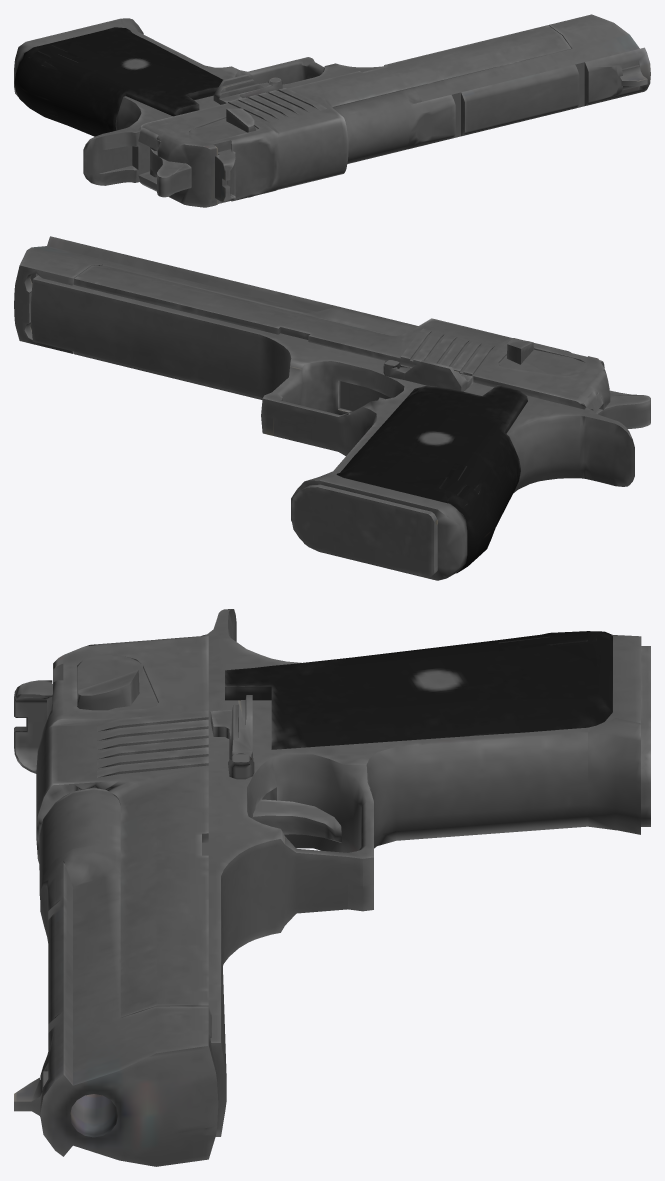
Rendered from Deagle.glb.
The picture shows the model from 3 angles, top to bottom: view 1: azimuth 30°, elevation 25°; view 2: azimuth 150°, elevation 25°; view 3: azimuth 270°, elevation 25°; orthographic projection. The views are drawn at different scales.
Parts seen in each view (by area): view 1: Deagle_upd, Deagle_upd_slider; view 2: Deagle_upd, Deagle_upd_slider, Deagle_upd_mag; view 3: Deagle_upd, Deagle_upd_slider, Deagle_upd_mag.
Boxes of the visible parts, bbox=[...] form: Deagle_upd: bbox=[14, 14, 650, 197]; Deagle_upd_slider: bbox=[138, 25, 571, 207]; Deagle_upd: bbox=[14, 236, 650, 580]; Deagle_upd_slider: bbox=[74, 265, 610, 409]; Deagle_upd_mag: bbox=[291, 484, 437, 577]; Deagle_upd: bbox=[14, 609, 641, 1166]; Deagle_upd_slider: bbox=[14, 635, 208, 1017]; Deagle_upd_mag: bbox=[641, 646, 650, 826].
Size of the model in its own units: 0.2331 by 0.0374 by 0.133.
Materials: 1 (1 with a texture image).
